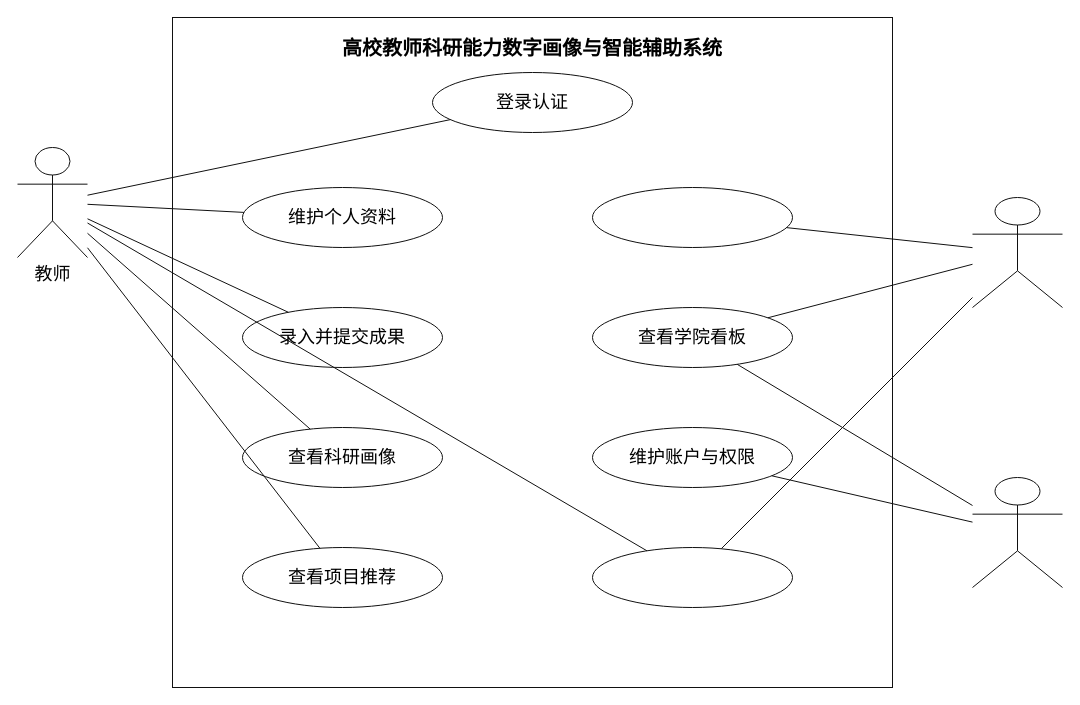
This 1080x705 diagram has some shape labels left out. The shapes that lost their labels are listed below. From the top down, each one's centre as x and y in pixels, then its label:
At pixel 692 217: "审核成果与认领".
At pixel 1017 252: "学院管理员".
At pixel 1017 532: "系统管理员".
At pixel 692 577: "使用智能问答".
